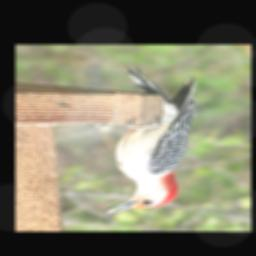Woodpecker: (100, 64, 196, 215)
